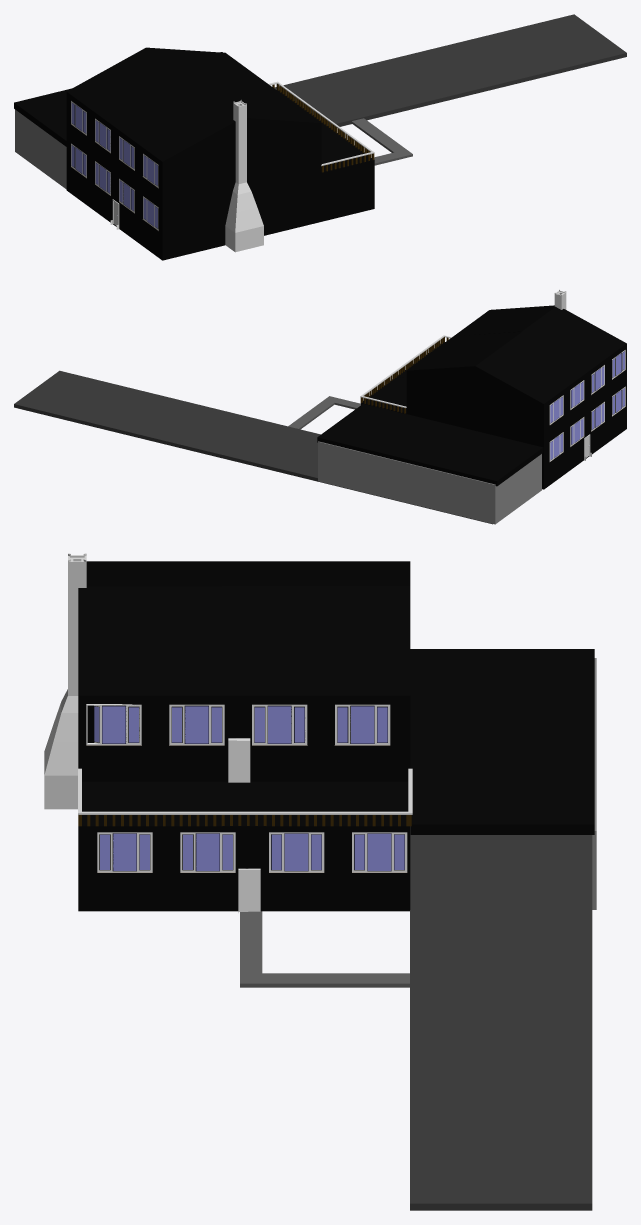
The model's file is SaintMary'sIslandLakehouse.fbx.
3 views of the same model, one above another, from view 1: azimuth 30°, elevation 25°; view 2: azimuth 150°, elevation 25°; view 3: azimuth 270°, elevation 25° (orthographic). The views are drawn at different scales.
Visible parts, largest first — view 1: House, Driveway..., Window.003, Chimney, CarportWalls, Carport, Pathway, Cube.001, Cube.003; view 2: House, Driveway..., Carport, CarportWalls, Window.003, Pathway, Cube.001, Cube.003; view 3: House, Driveway..., Carport, Window, Chimney, Window.001, Window.002, Pathway, Cube.003, Cube.001, CTRL_Hole.001, CTRL_Hole (+1 smaller).
Boxes of the visible parts, x1,y1,x2,y2 form: House: (66,47,374,260); Driveway...: (274,14,626,127); Window.003: (71,101,158,230); Chimney: (225,100,263,252); CarportWalls: (15,109,66,189); Carport: (14,52,222,146); Pathway: (351,118,412,165); Cube.001: (277,84,372,159); Cube.003: (268,81,374,166); House: (360,305,626,489); Driveway...: (14,370,492,524); Carport: (317,403,543,486); CarportWalls: (318,441,541,524); Window.003: (549,350,625,461); Pathway: (288,396,360,429); Cube.001: (362,337,444,402); Cube.003: (360,335,451,408); House: (78,561,410,911); Driveway...: (410,826,592,1210); Carport: (410,649,594,834); Window: (86,704,390,745); Chimney: (44,553,86,809); Window.001: (97,832,235,872); Window.002: (269,832,407,872); Pathway: (240,911,409,987); Cube.003: (78,768,412,814); Cube.001: (81,815,408,826); CTRL_Hole.001: (228,738,250,782); CTRL_Hole: (238,868,260,911).
Bounding box in the file's own units: 5079 × 1228 × 2495.
